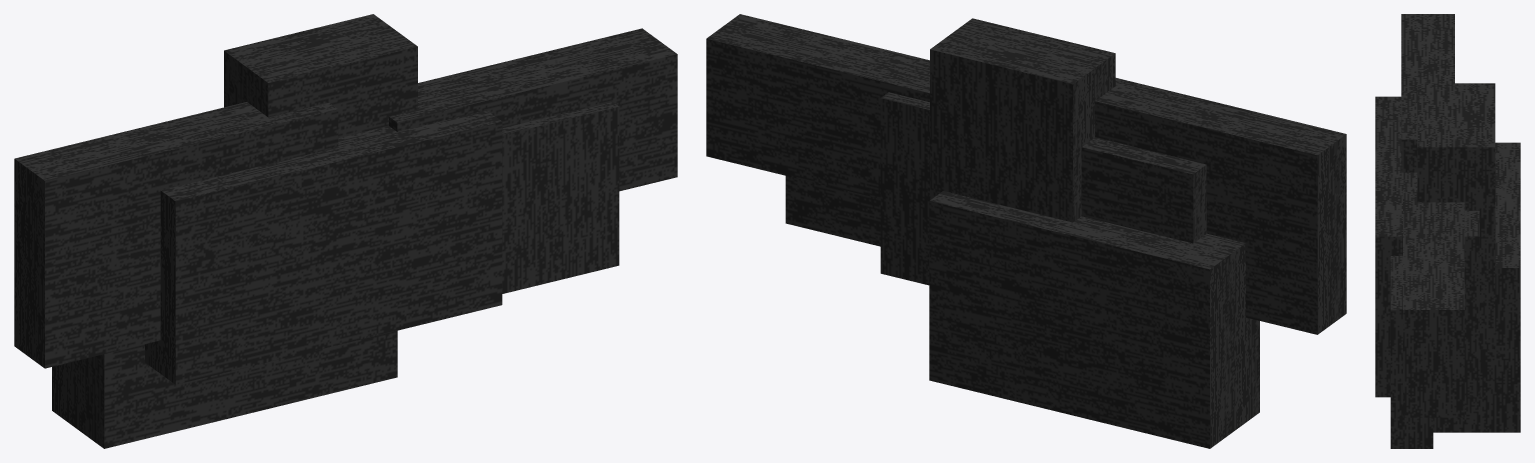
Rendered from plat_ver3.fbx.
3 views of the same model, side by side, from view 1: azimuth 30°, elevation 25°; view 2: azimuth 150°, elevation 25°; view 3: azimuth 270°, elevation 25° (orthographic). The views are drawn at different scales.
Visible parts, largest first — view 1: Cube.062; view 2: Cube.062; view 3: Cube.062.
Boxes of the visible parts, x1,y1,x2,y2 form: Cube.062: [14, 14, 677, 448]; Cube.062: [706, 14, 1346, 448]; Cube.062: [1375, 14, 1520, 448].
Size of the model in its own units: 2263 by 1134 by 512.
